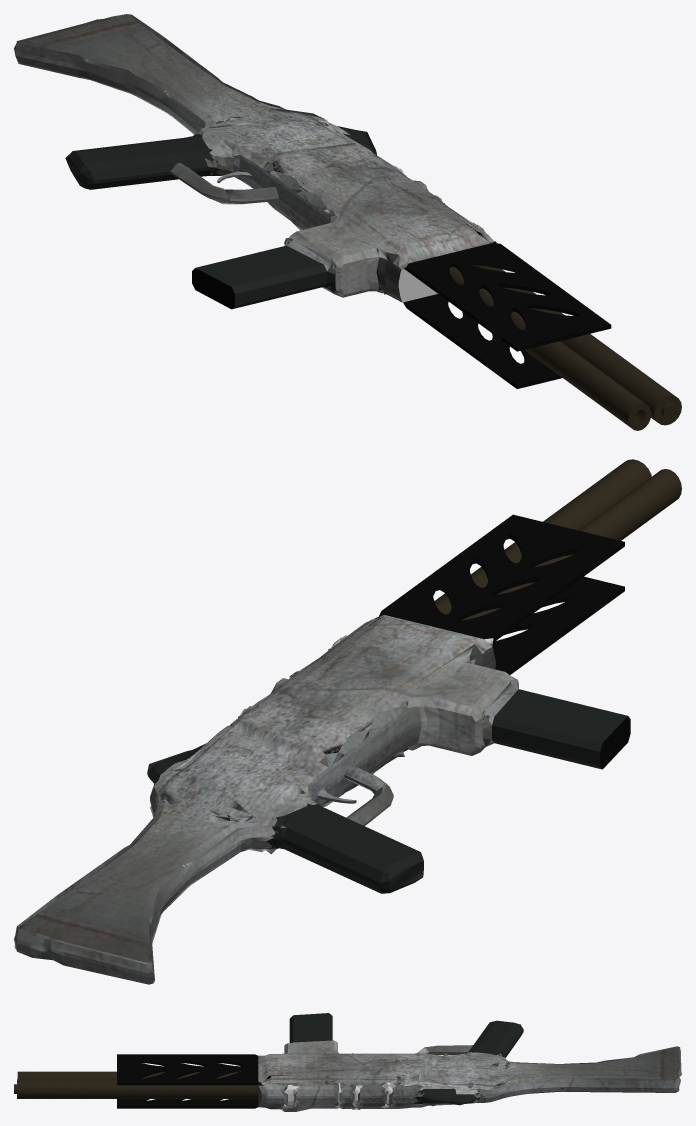
Rendered from metralleta.obj.
The picture shows the model from 3 angles, top to bottom: view 1: azimuth 30°, elevation 25°; view 2: azimuth 150°, elevation 25°; view 3: azimuth 270°, elevation 25°; orthographic projection. The views are drawn at different scales.
Visible parts, largest first — view 1: Cylinder001; view 2: Cylinder001; view 3: Cylinder001.
Boxes of the visible parts, box(x1,y1,x2,y2) form: Cylinder001: box(14, 14, 681, 430); Cylinder001: box(14, 459, 681, 984); Cylinder001: box(14, 1013, 681, 1111).
Size of the model in its own units: 2.46 by 0.473 by 8.22.
1 material, 1 textured.
